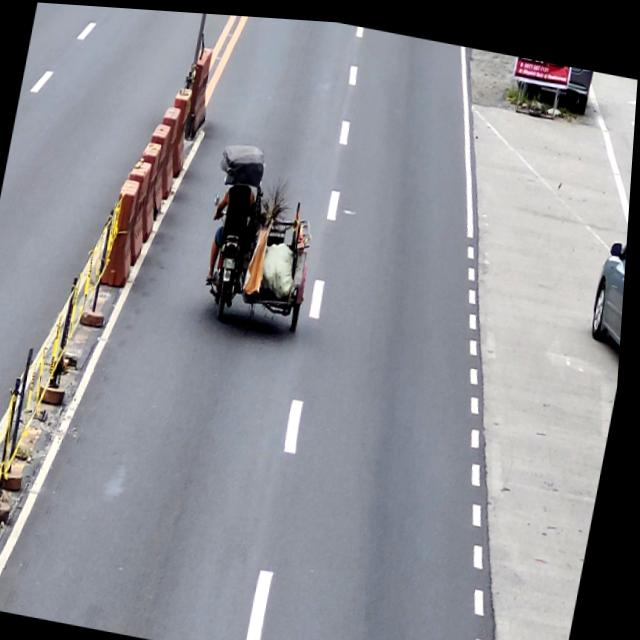License-Plate: (225, 253, 240, 267)
Tricycle: (195, 134, 332, 333)
